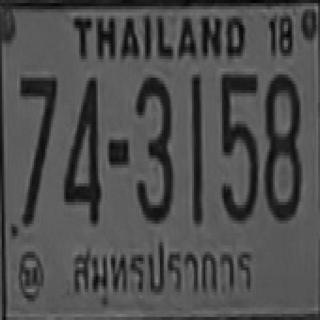N01: (190, 73, 201, 222)
N03: (135, 74, 172, 220)
N04: (62, 74, 100, 220)
N05: (219, 71, 257, 221)
N07: (19, 75, 57, 224), (19, 75, 57, 180)
N08: (264, 72, 299, 218)
P57: (66, 235, 255, 309)
